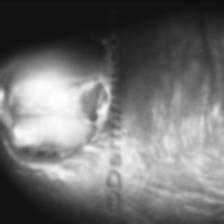Toxin: (0, 38, 108, 152)
